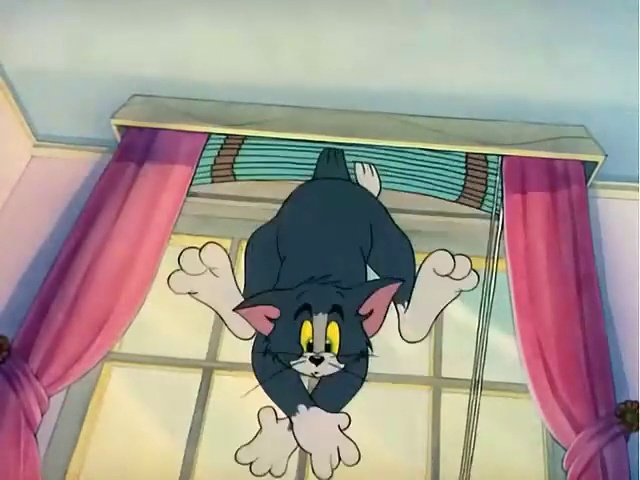tom: (206, 133, 475, 466)
